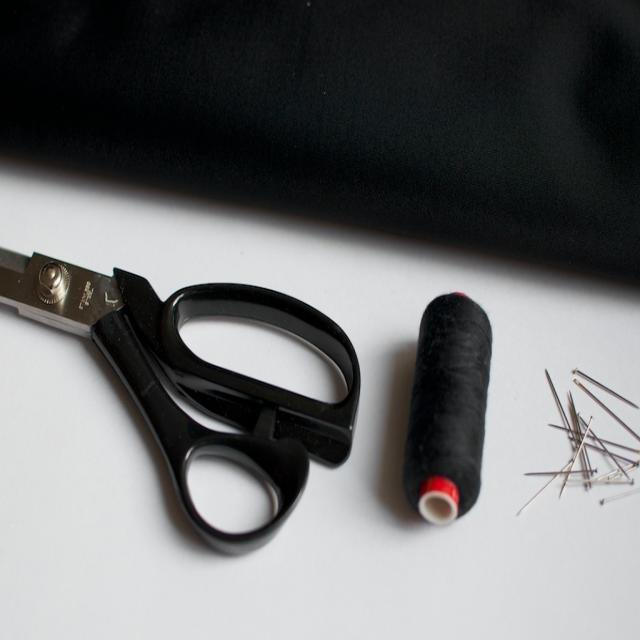scissors: (0, 244, 361, 555)
